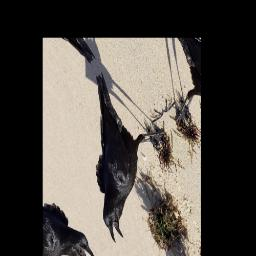Crow: (54, 47, 189, 247)
